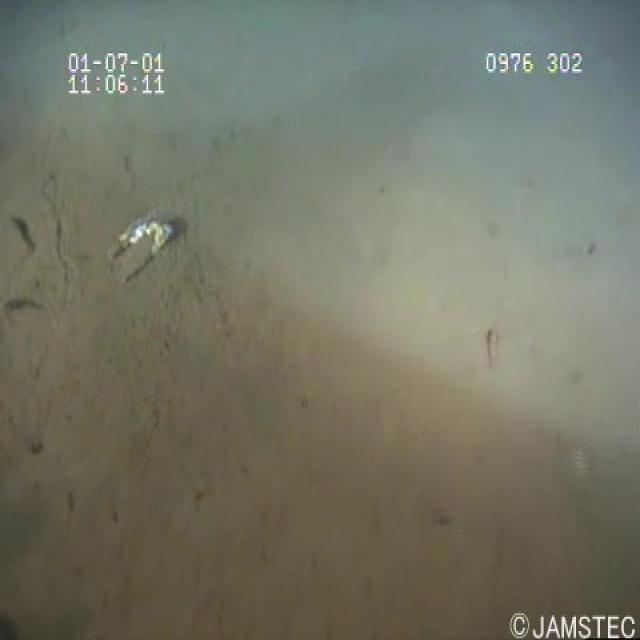plastic: (104, 201, 184, 300)
